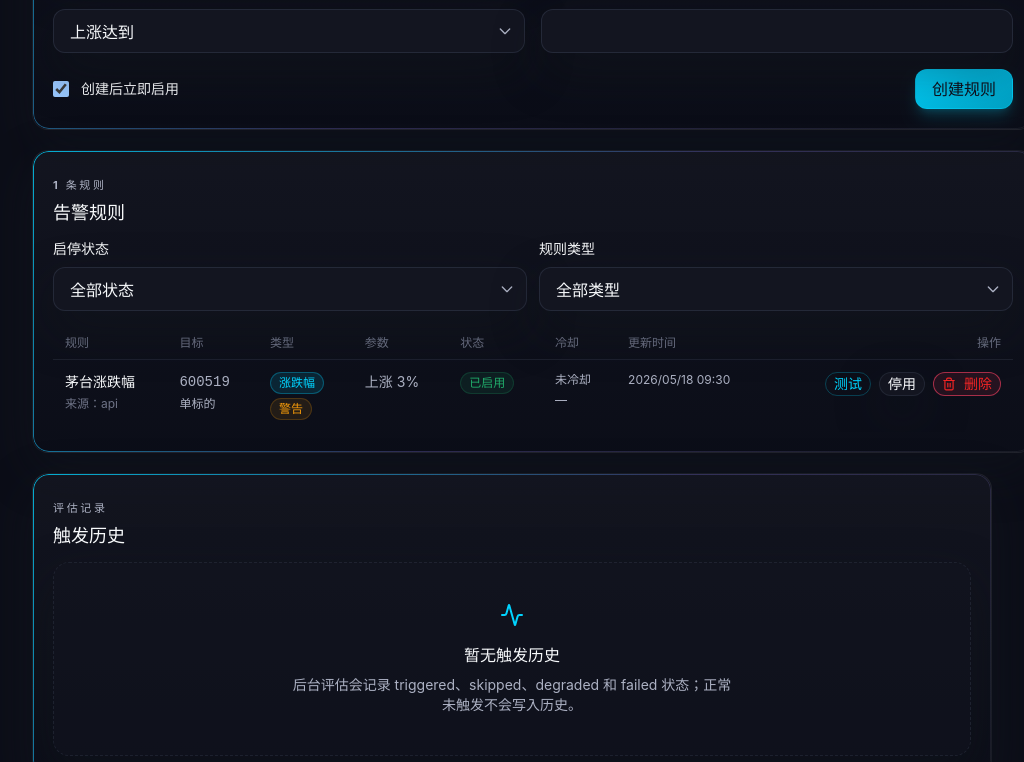
Test: AlertsPage › renders batch dry-run summary and target results
The width and height of the screenshot is (1024, 762).
(page scrolled)
Click the button "测试". click: [848, 384]
box: [825, 372, 871, 396]
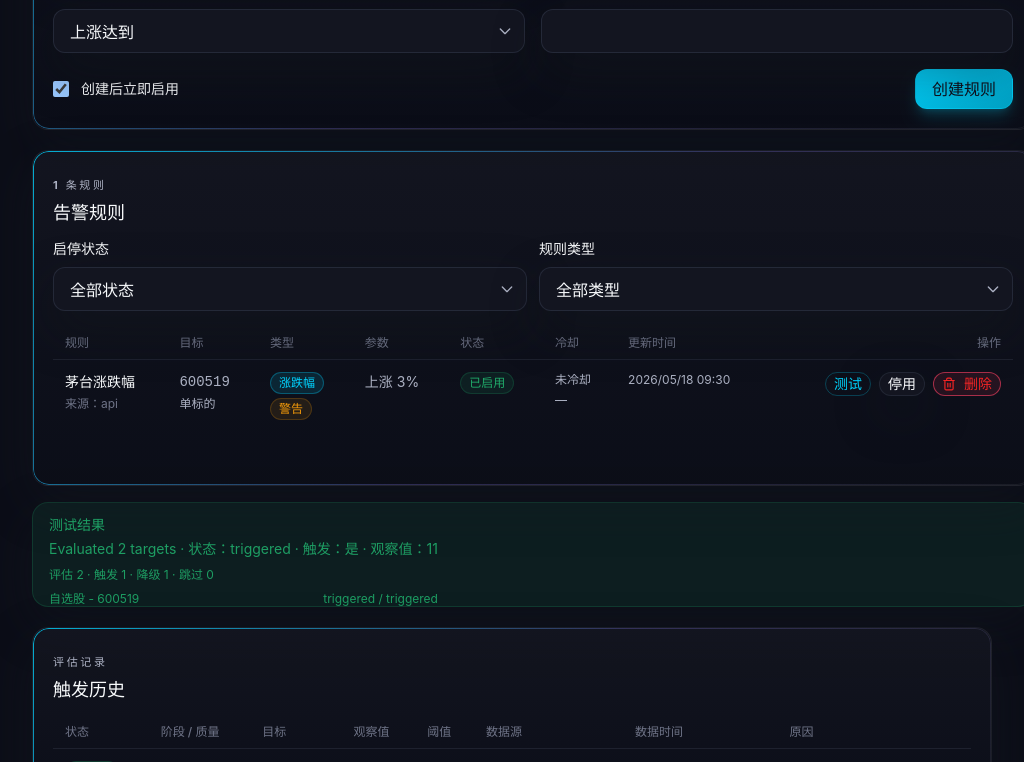
Now the text "评估 2 · 触发 1 · 降级 1 · 跳过 0" is shown, box [49, 567, 214, 582]
Now the text "自选股 - 600519" is shown, box [49, 591, 139, 607]
